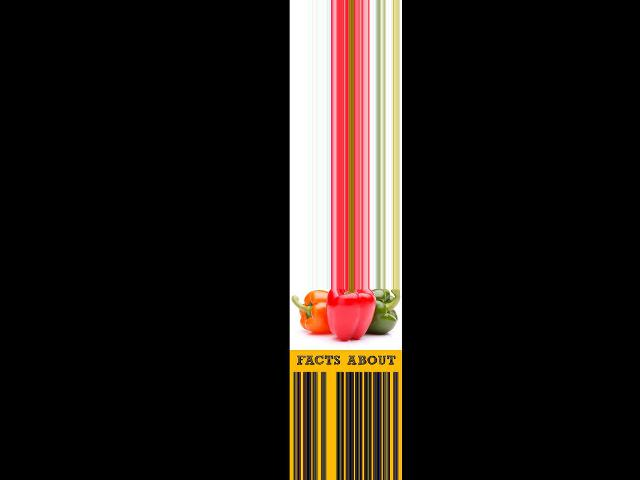bell_pepper: (372, 289, 400, 341)
